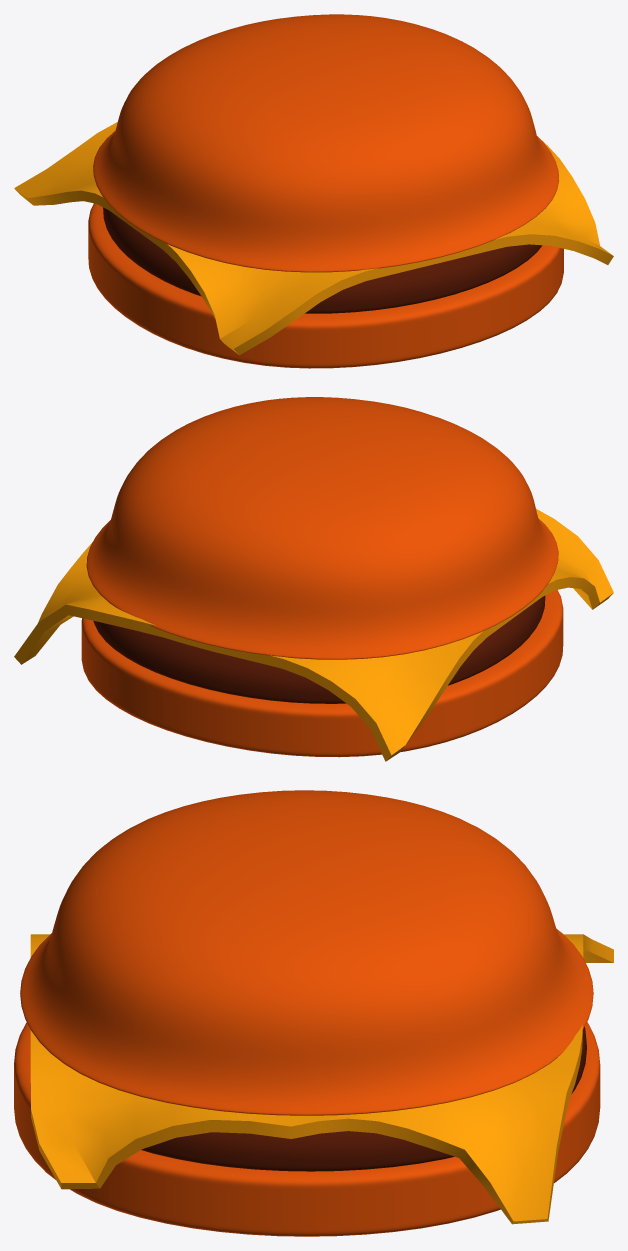
Rendered from Hamburger.glb.
3 views of the same model, one above another, from view 1: azimuth 30°, elevation 25°; view 2: azimuth 150°, elevation 25°; view 3: azimuth 270°, elevation 25° (orthographic). The views are drawn at different scales.
Parts seen in each view (by area): view 1: Cube.002, Cube, Plane, Cube.001; view 2: Cube.002, Cube, Plane, Cube.001; view 3: Cube.002, Plane, Cube, Cube.001.
Part boxes in pixels (x1,y1,x2,y2): Cube.002: (93, 14, 559, 272); Cube: (88, 203, 563, 368); Plane: (14, 122, 613, 355); Cube.001: (103, 207, 542, 313); Cube.002: (86, 397, 558, 659); Cube: (81, 590, 563, 757); Plane: (14, 509, 613, 761); Cube.001: (93, 596, 545, 703); Cube.002: (20, 790, 593, 1115); Plane: (30, 934, 613, 1224); Cube: (14, 1022, 600, 1236); Cube.001: (141, 1026, 586, 1171).
Bounding box in the file's own units: 9.34 × 4.66 × 9.38.
